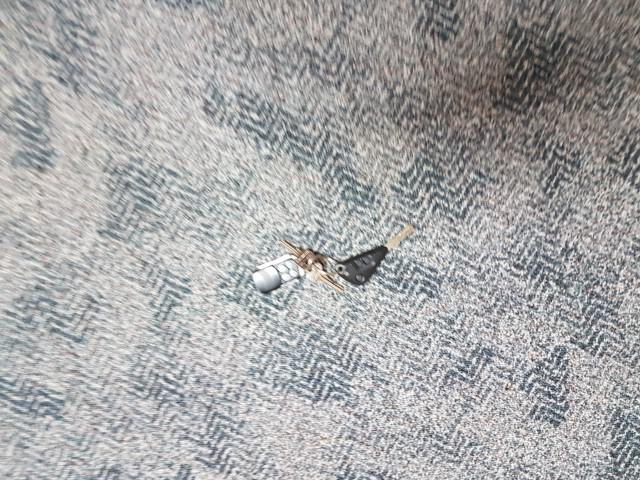key: (333, 219, 421, 291)
